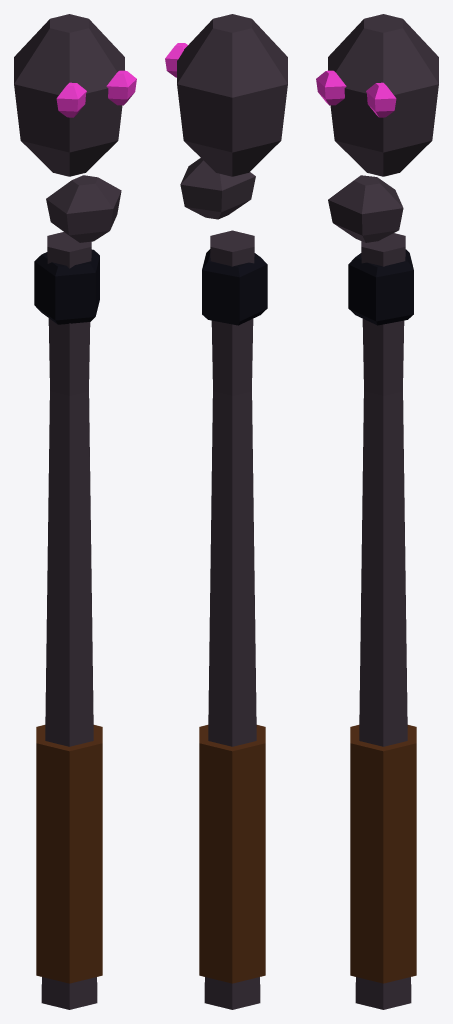
The model's file is wpn_wand_10.glb.
3 views of the same model, side by side, from view 1: azimuth 30°, elevation 25°; view 2: azimuth 210°, elevation 25°; view 3: azimuth 330°, elevation 25° (orthographic).
Visible parts, largest first — view 1: wpn_wand_10; view 2: wpn_wand_10; view 3: wpn_wand_10.
Part boxes in pixels (<box>): wpn_wand_10: <box>14,14,136,1009</box>; wpn_wand_10: <box>165,14,287,1009</box>; wpn_wand_10: <box>316,14,438,1009</box>.
Size of the model in its own units: 0.08 by 0.67 by 0.0766.
